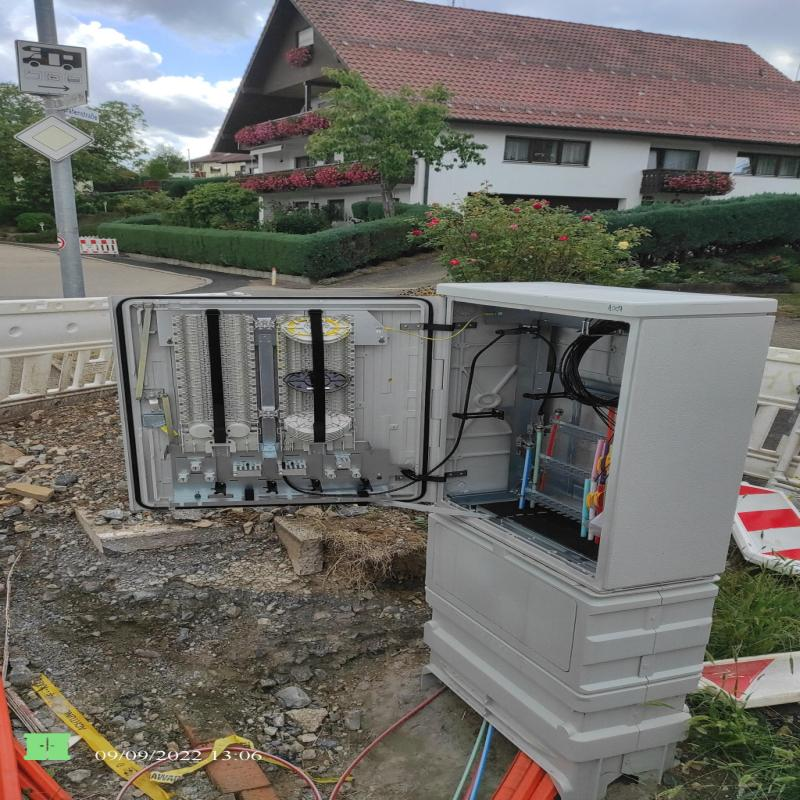NT-Gehause: (109, 281, 774, 685)
Orang-Speednetrohrchen: (0, 673, 73, 800), (493, 751, 557, 800)
Spleiskassetten: (173, 309, 261, 460), (272, 310, 358, 457)
